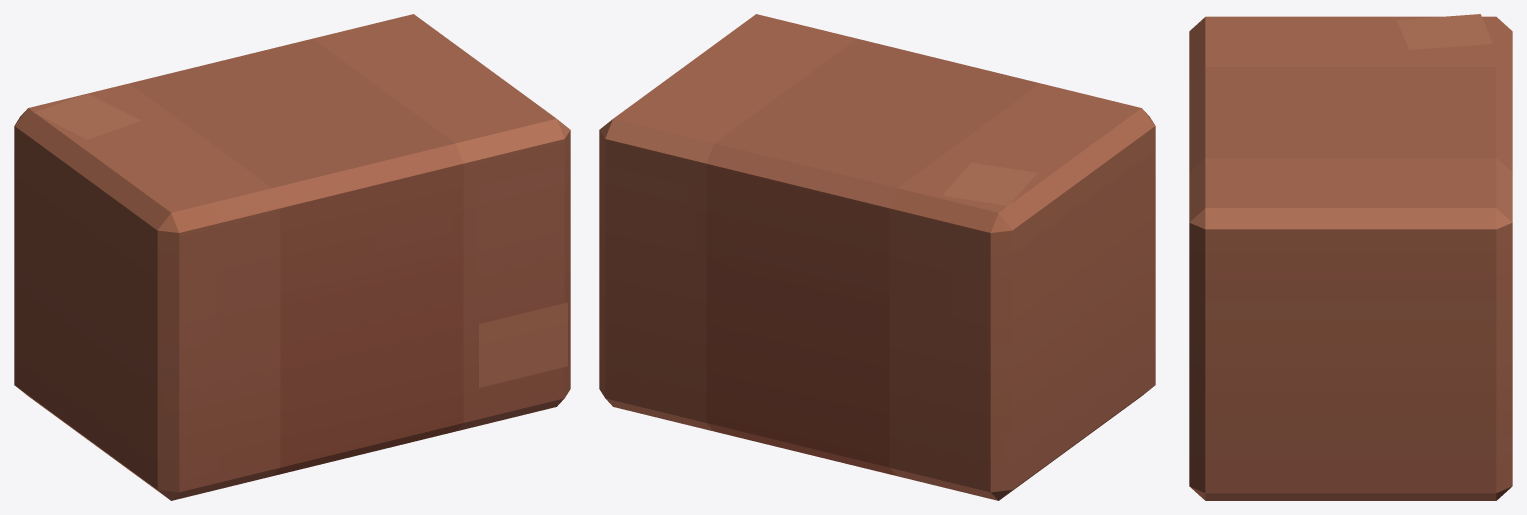
Rendered from pro-box-b.glb.
3 renders of one model, left to right at view 1: azimuth 30°, elevation 25°; view 2: azimuth 150°, elevation 25°; view 3: azimuth 270°, elevation 25°, orthographic.
Visible parts, largest first — view 1: Box_B; view 2: Box_B; view 3: Box_B.
Part boxes in pixels (x1,y1,x2,y2): Box_B: (14,14,570,500); Box_B: (599,14,1155,500); Box_B: (1189,14,1512,500).
Bounding box in the file's own units: 0.6 × 0.4022 × 0.4062.
Materials: 1 (1 with a texture image).
